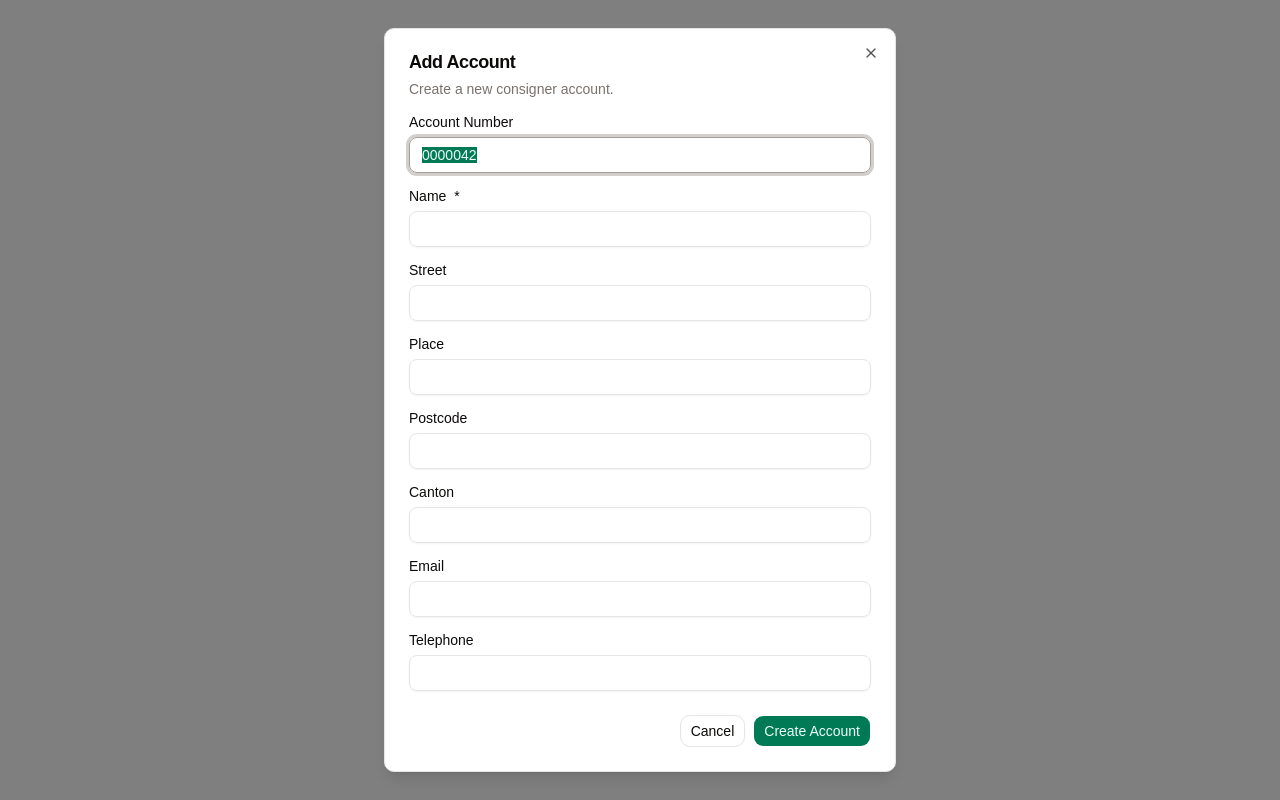
AccountForm › error message display › shows 'Account number is already in use' on duplicate error
This screenshot has width=1280, height=800.
Type "Test Account" into the field labelled "Name *" at (640, 229), box 409,211 -> 871,247
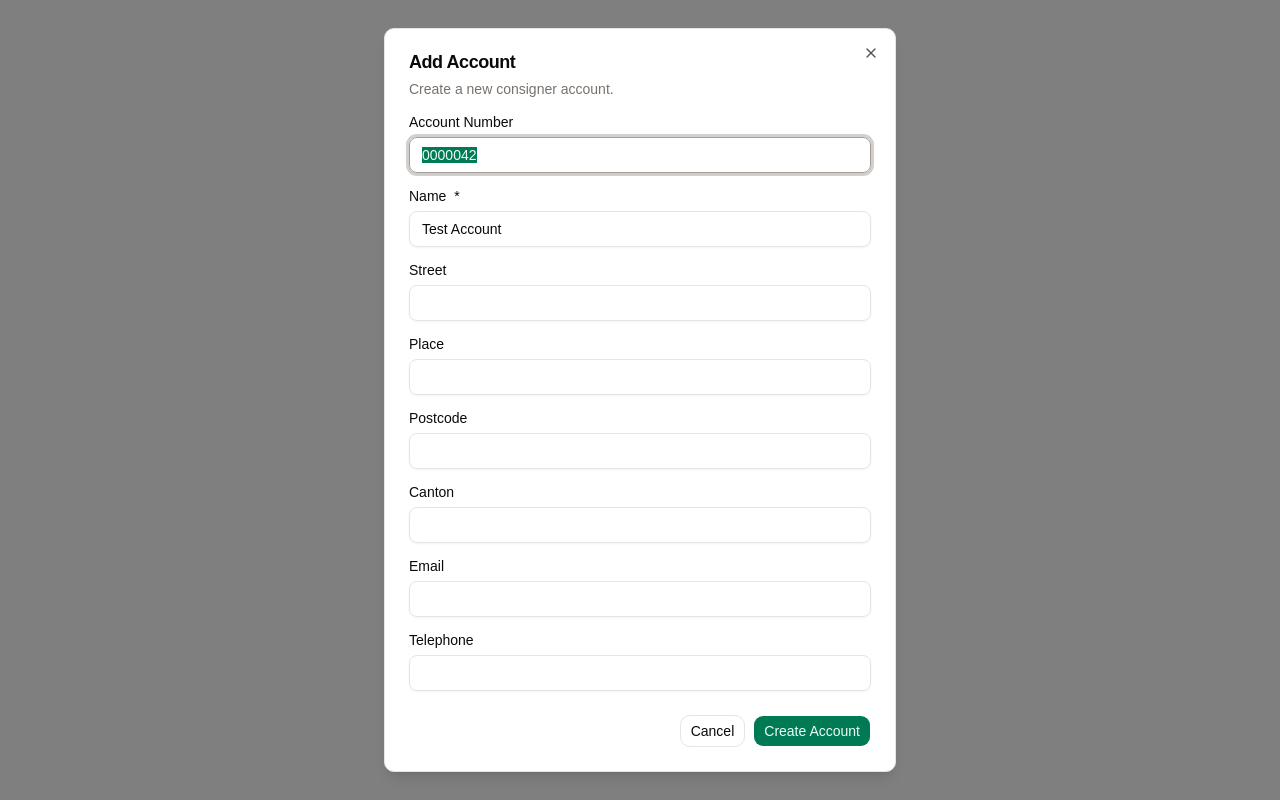
Submit the form, box 409,115 -> 871,747
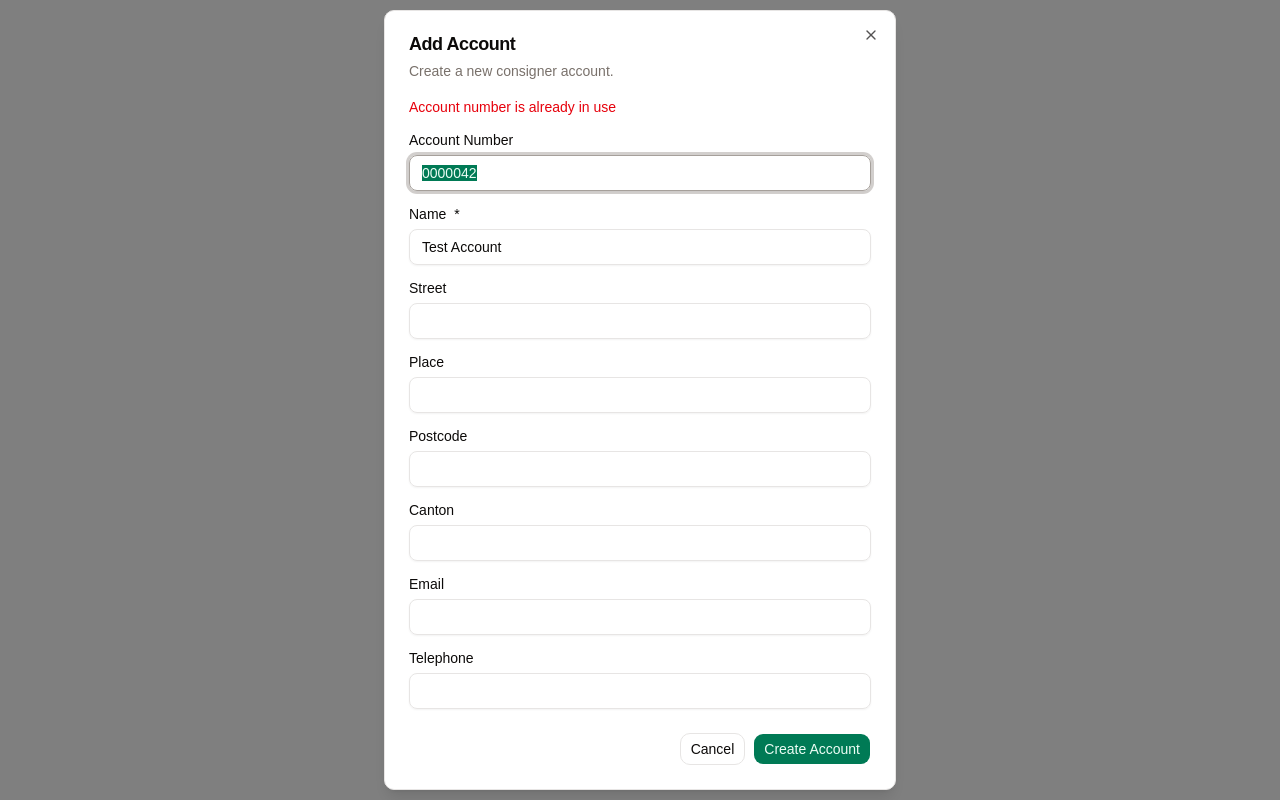
Now the text "Account number is already in use" is shown, box 409,99 -> 616,115
